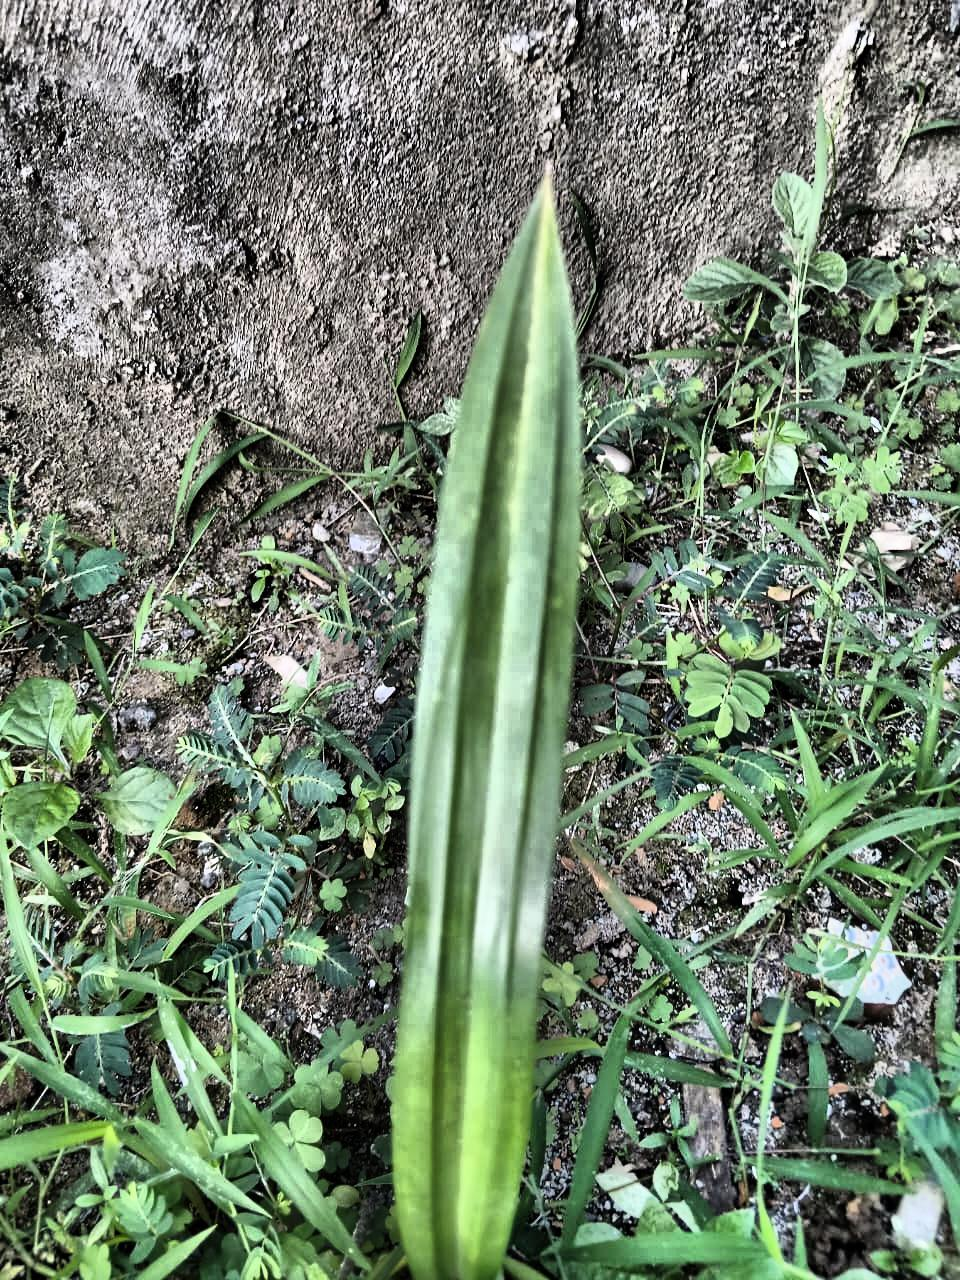daun pandan: (391, 177, 582, 1279)
